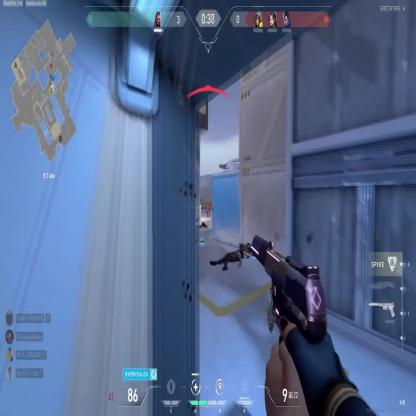enemy: (206, 201, 210, 218)
enemy_head: (208, 201, 210, 205)
